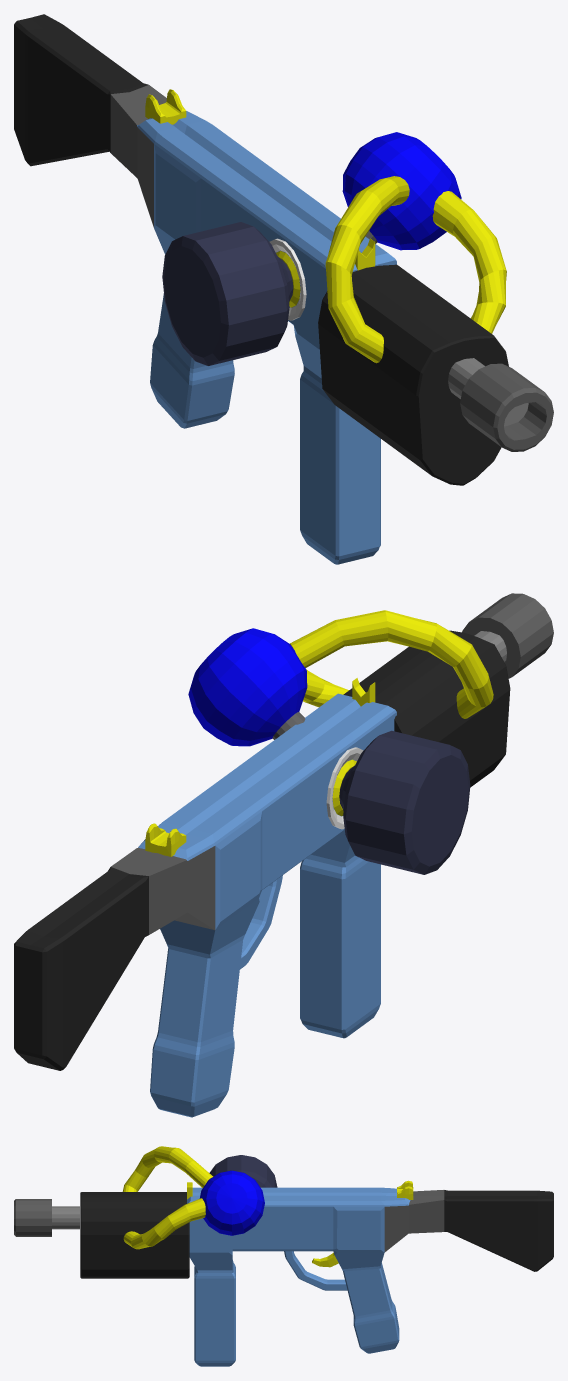
Rendered from ShootAndSurvive.fbx.
3 views of the same model, one above another, from view 1: azimuth 30°, elevation 25°; view 2: azimuth 150°, elevation 25°; view 3: azimuth 270°, elevation 25° (orthographic). The views are drawn at different scales.
Parts seen in each view (by area): view 1: Cube, Cylinder, Cylinder.001, Cube.002; view 2: Cube, Cylinder, Cylinder.001, Cube.002; view 3: Cube, Cylinder, Cylinder.001, Cube.002.
Boxes of the visible parts, x1,y1,x2,y2 form: Cube: [14, 14, 553, 564]; Cylinder: [269, 132, 506, 363]; Cylinder.001: [162, 222, 293, 365]; Cube.002: [145, 89, 375, 270]; Cube: [14, 593, 553, 1117]; Cylinder: [188, 610, 493, 829]; Cylinder.001: [339, 730, 470, 874]; Cube.002: [145, 678, 375, 856]; Cube: [14, 1187, 553, 1366]; Cylinder: [122, 1146, 264, 1249]; Cylinder.001: [209, 1155, 277, 1187]; Cube.002: [187, 1180, 413, 1199].
Size of the model in its own units: 133 by 197 by 456.
